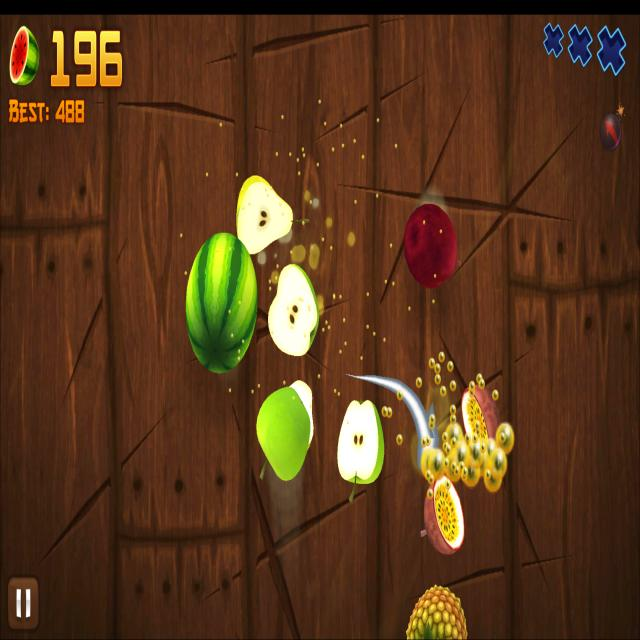fruit: (185, 233, 258, 373), (256, 384, 310, 480), (403, 203, 457, 289), (406, 585, 468, 640)
